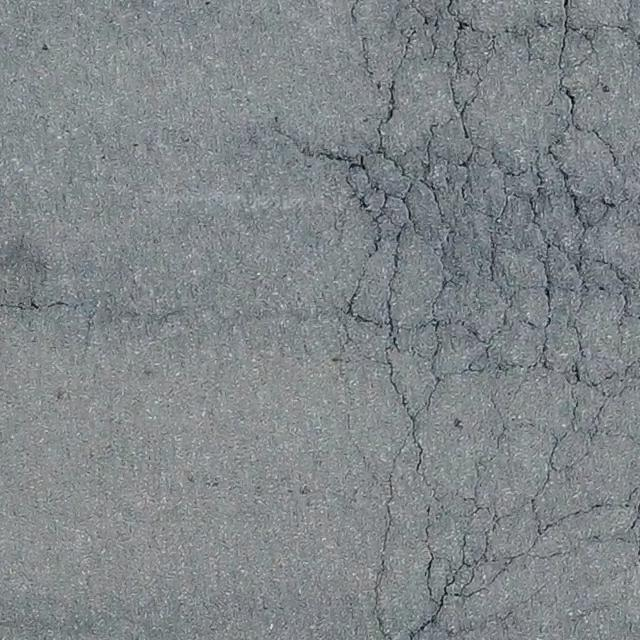GRIETA: (273, 117, 352, 162), (0, 300, 72, 310)
PIEL DE COCODRILO: (328, 0, 639, 639)
